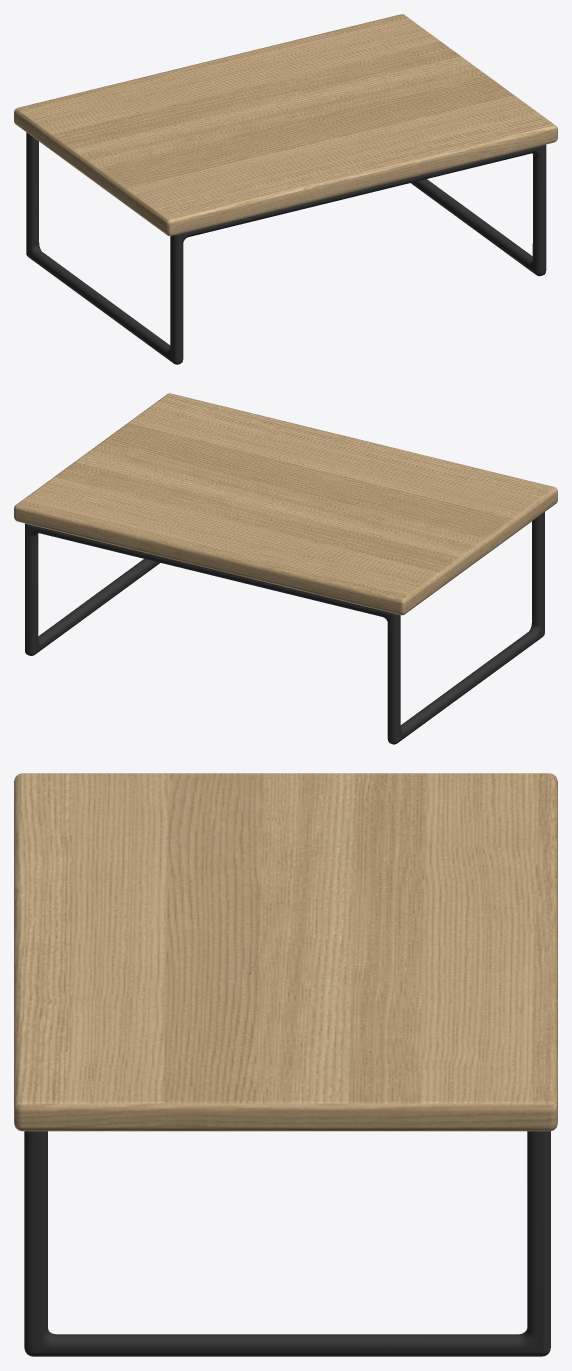
Rendered from desk2.fbx.
The picture shows the model from 3 angles, top to bottom: view 1: azimuth 30°, elevation 25°; view 2: azimuth 150°, elevation 25°; view 3: azimuth 270°, elevation 25°; orthographic projection. The views are drawn at different scales.
Parts seen in each view (by area): view 1: desk2; view 2: desk2; view 3: desk2.
Part boxes in pixels (x1,y1,x2,y2): desk2: (14, 14, 557, 364); desk2: (14, 393, 557, 744); desk2: (14, 773, 557, 1356).
Bounding box in the file's own units: 0.0502 × 0.0184 × 0.0346.
2 materials, 1 textured.
